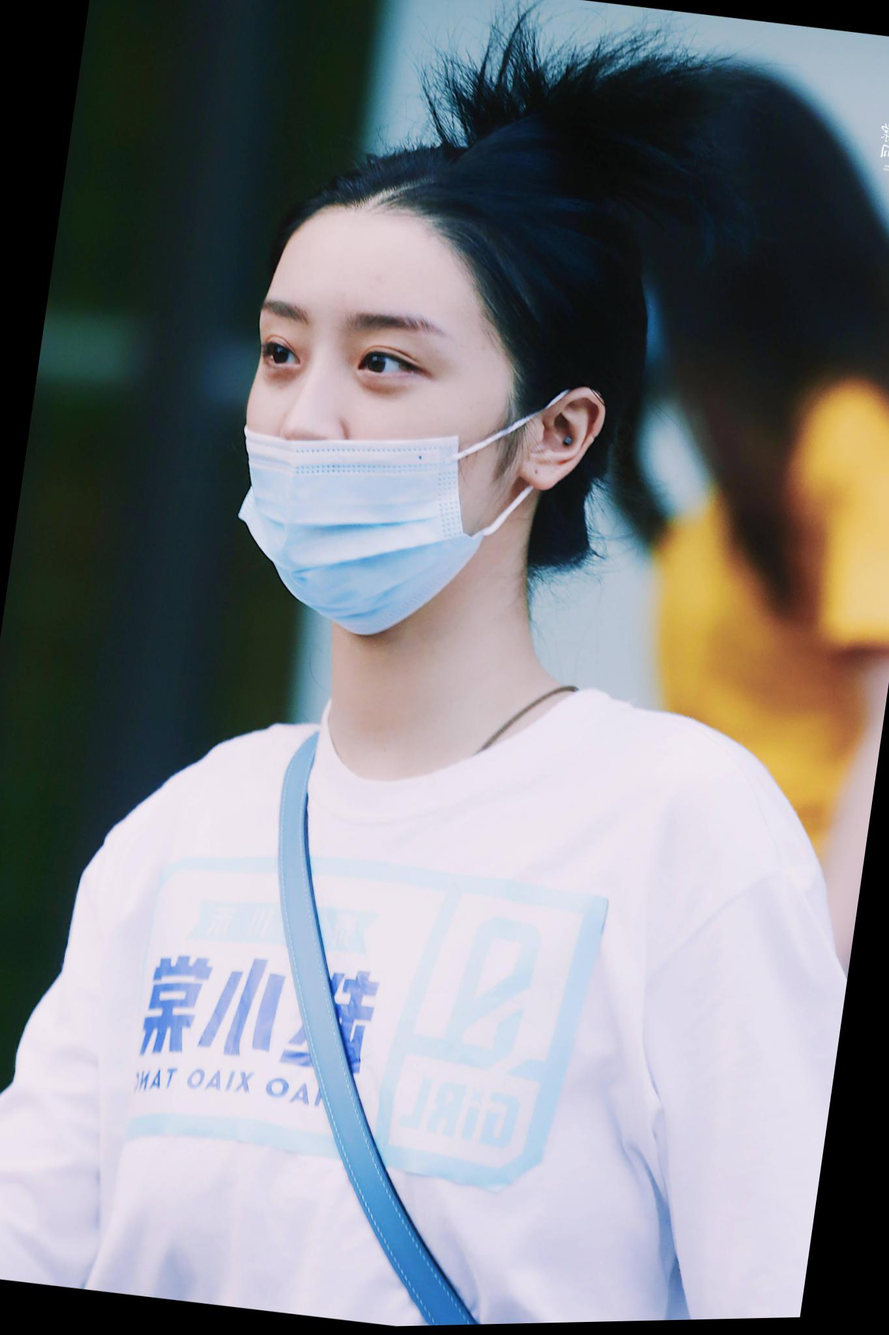WRONG: (219, 254, 512, 647)
